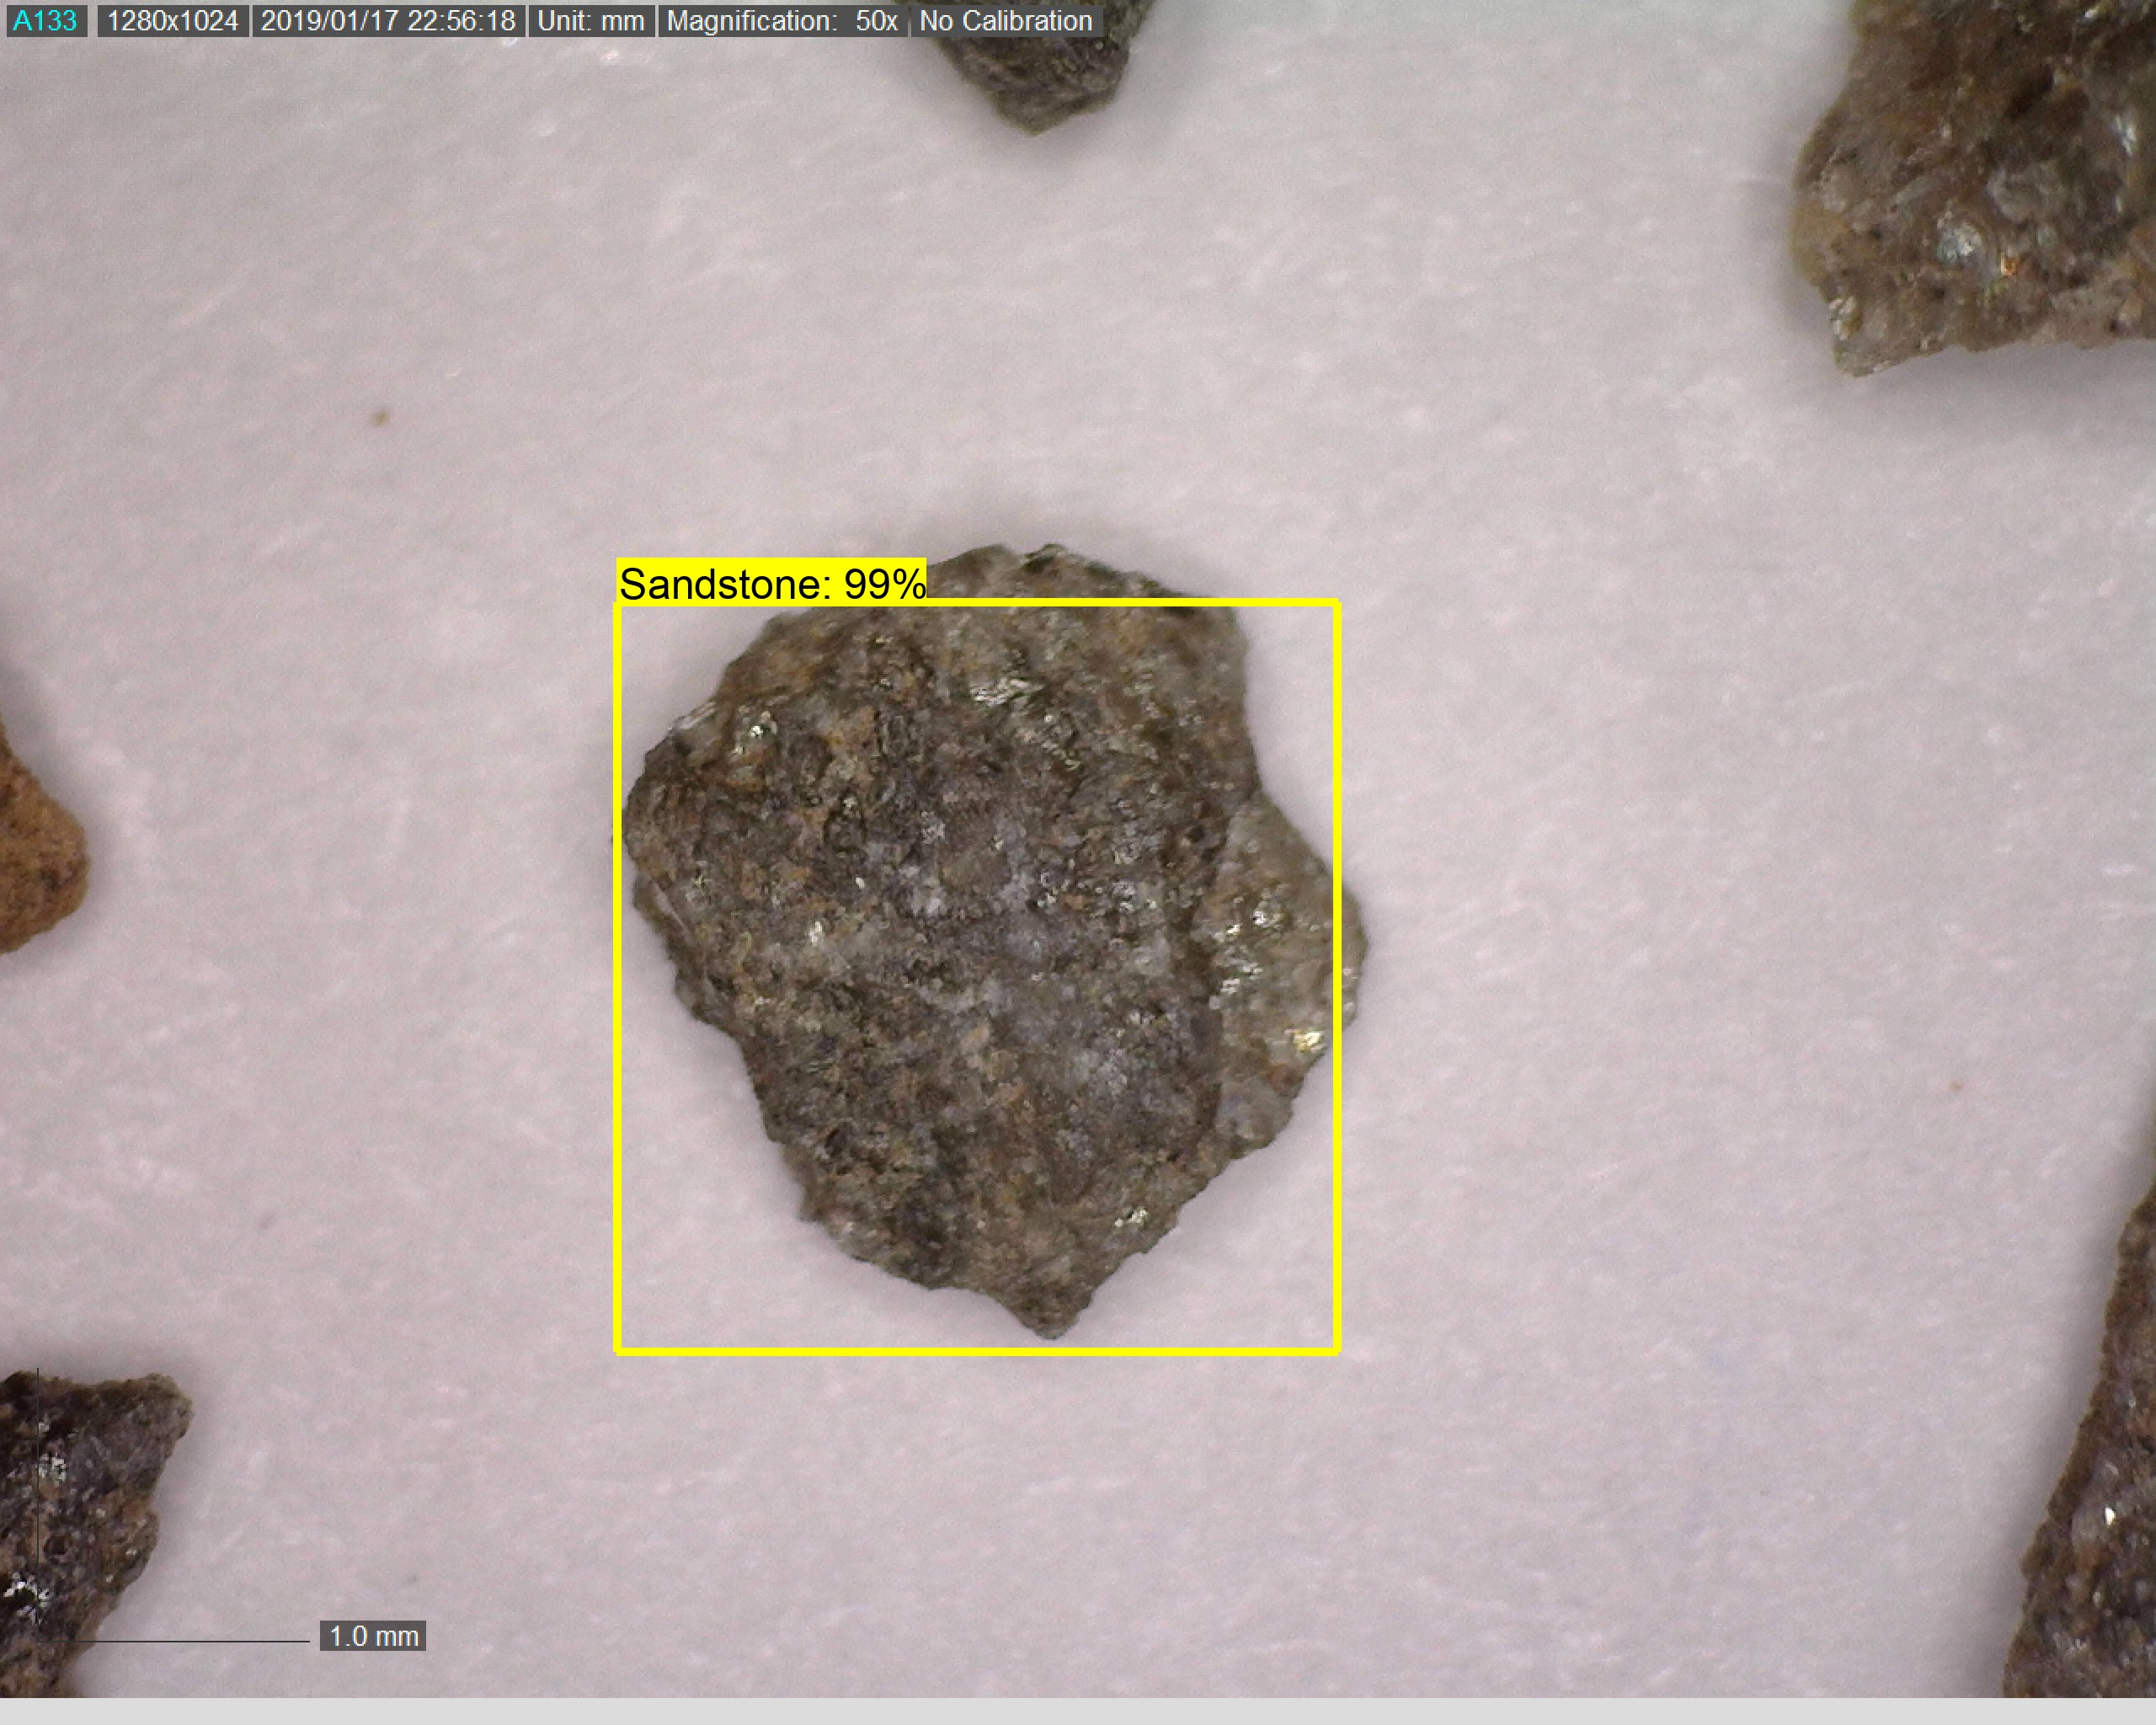Sandstone: (616, 530, 1380, 1355)
